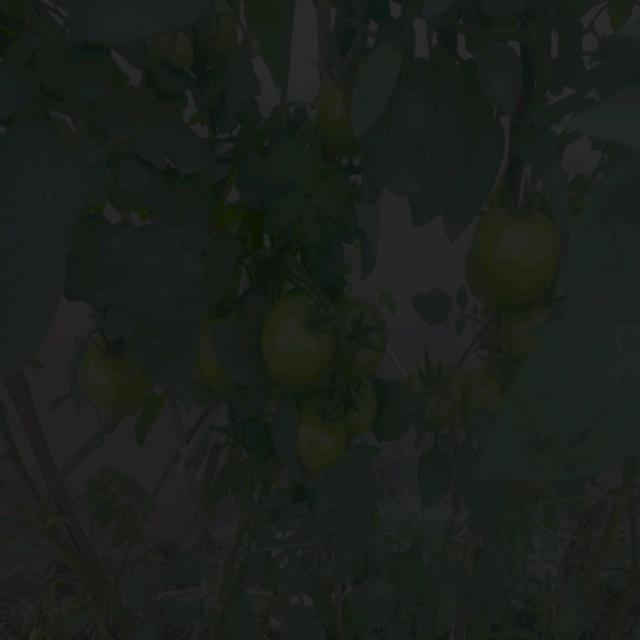tomato: (470, 214, 559, 301), (264, 289, 338, 385), (79, 342, 156, 414), (334, 294, 396, 375), (303, 390, 344, 460), (503, 305, 557, 357), (424, 369, 462, 441), (318, 84, 357, 152), (196, 324, 230, 396), (341, 380, 381, 433), (152, 34, 203, 71), (462, 361, 503, 403), (209, 4, 238, 49)
